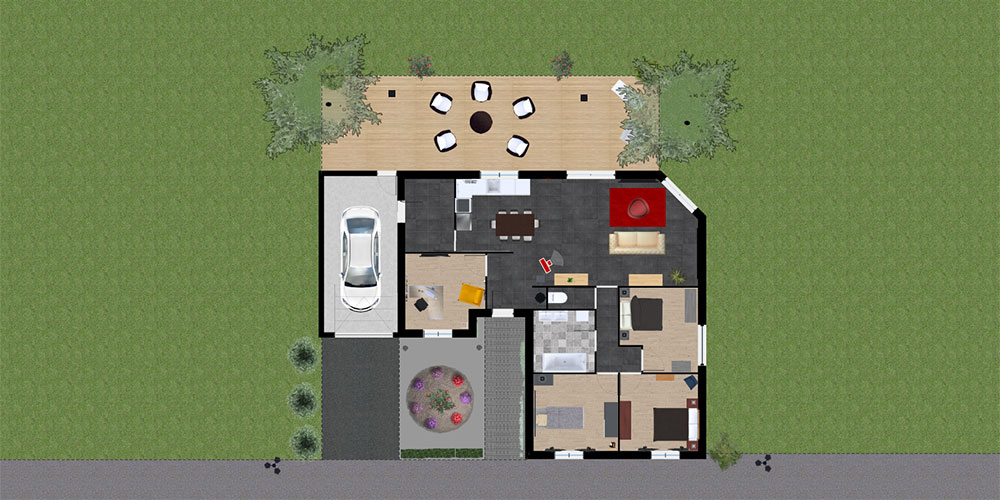room: (395, 168, 707, 254), (614, 283, 708, 375), (524, 369, 621, 458), (393, 250, 487, 341), (613, 369, 707, 460), (525, 283, 601, 377)
